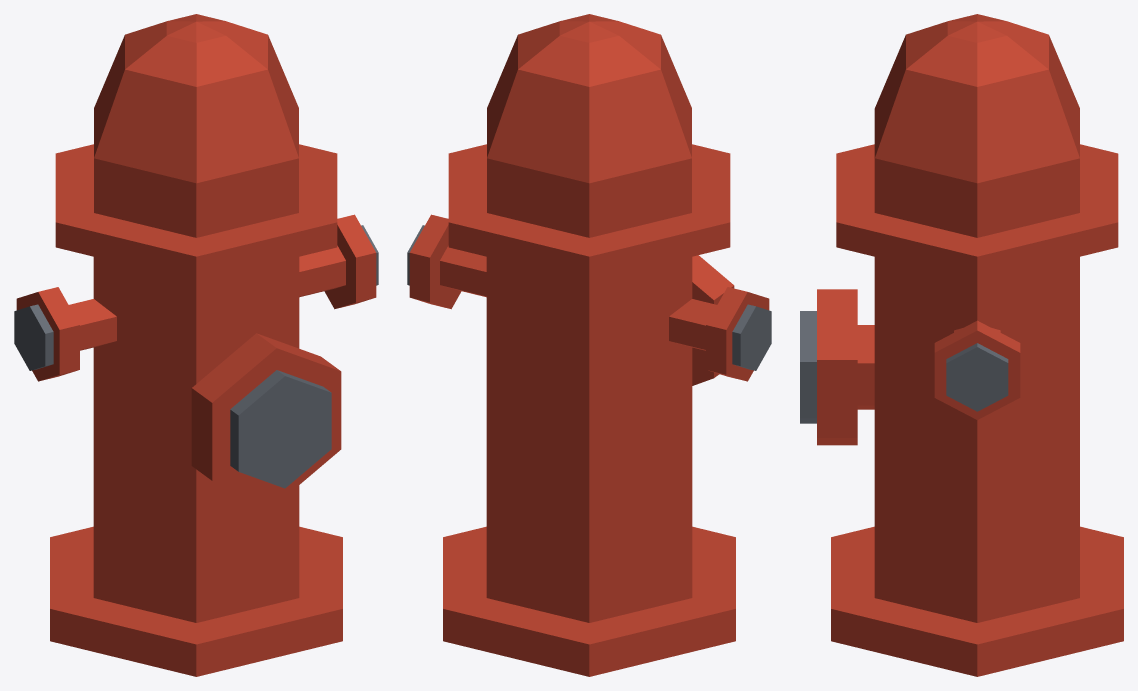
Rendered from Road_Objects_Fire_Hydrant.fbx.
3 views of the same model, side by side, from view 1: azimuth 30°, elevation 25°; view 2: azimuth 150°, elevation 25°; view 3: azimuth 270°, elevation 25° (orthographic).
Parts seen in each view (by area): view 1: Road_Objects_Fire_Hydrant; view 2: Road_Objects_Fire_Hydrant; view 3: Road_Objects_Fire_Hydrant.
Boxes of the visible parts, <box> form: Road_Objects_Fire_Hydrant: <box>14,14,378,676</box>; Road_Objects_Fire_Hydrant: <box>407,14,771,676</box>; Road_Objects_Fire_Hydrant: <box>800,14,1123,676</box>.
Bounding box in the file's own units: 40.49 × 67.77 × 34.07.
